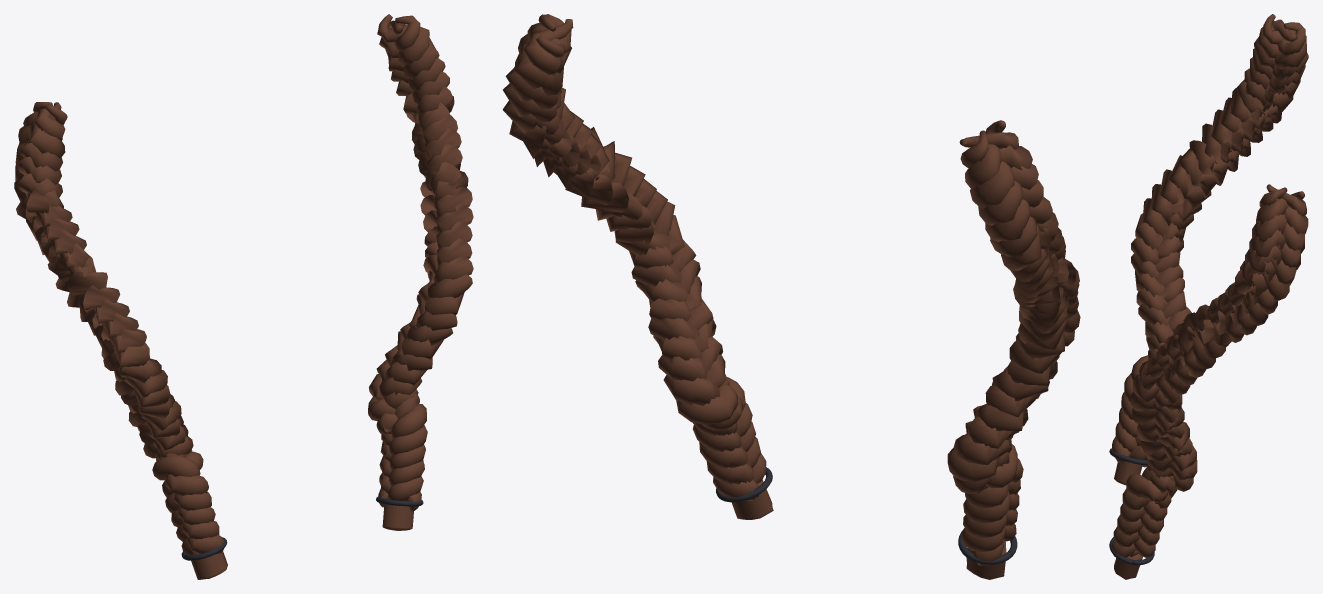
File: Feminine-twin-braids-triangle-lengths251.glb
3 views of the same model, side by side, from view 1: azimuth 30°, elevation 25°; view 2: azimuth 150°, elevation 25°; view 3: azimuth 270°, elevation 25° (orthographic). The views are drawn at different scales.
Visible parts, largest first — view 1: 226 hairLengths / Hair / chestnut226; view 2: 226 hairLengths / Hair / chestnut226, 226 hairLengths / Hair / ties226; view 3: 226 hairLengths / Hair / chestnut226, 226 hairLengths / Hair / ties226.
Boxes of the visible parts, bbox=[...] form: 226 hairLengths / Hair / chestnut226: bbox=[14, 14, 473, 579]; 226 hairLengths / Hair / chestnut226: bbox=[502, 14, 1080, 579]; 226 hairLengths / Hair / ties226: bbox=[716, 467, 1017, 564]; 226 hairLengths / Hair / chestnut226: bbox=[1111, 14, 1308, 579]; 226 hairLengths / Hair / ties226: bbox=[1109, 448, 1154, 565].
Size of the model in its own units: 1.09 by 1.06 by 0.444.
